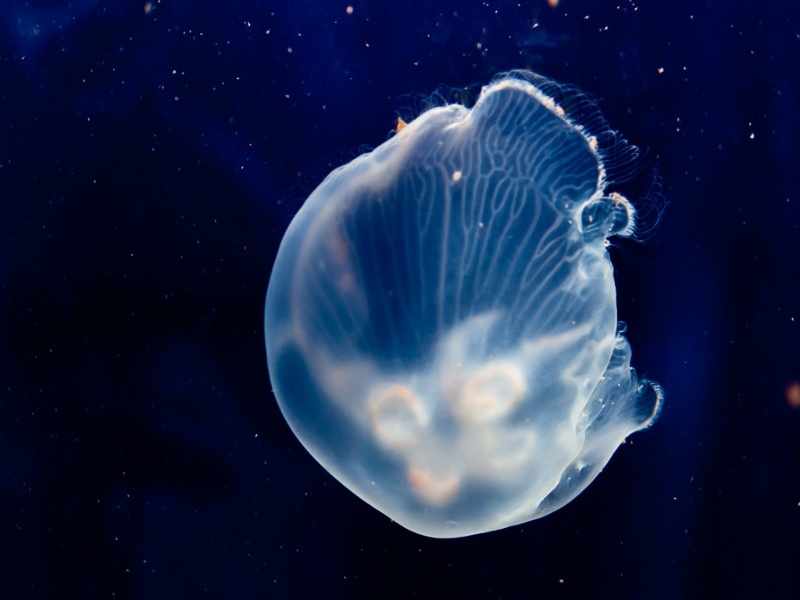Jellyfish: (277, 65, 690, 544)
